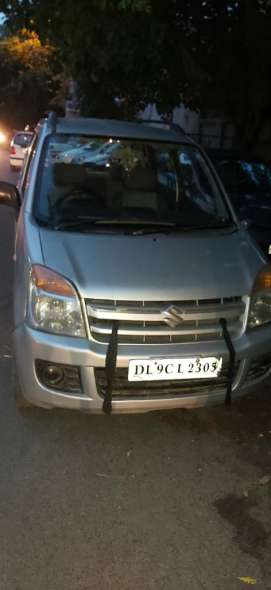license_plate: (125, 357, 222, 379)
